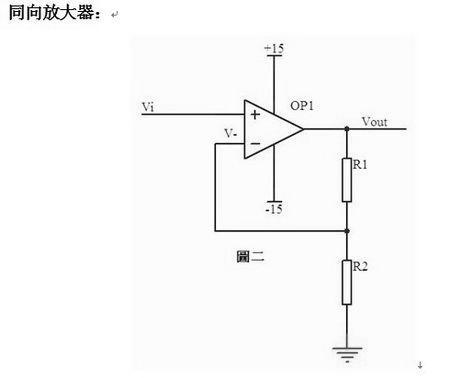amplifier: (240, 97, 308, 160)
gnd: (332, 344, 364, 364)
res1: (339, 156, 355, 206), (341, 256, 354, 311)
